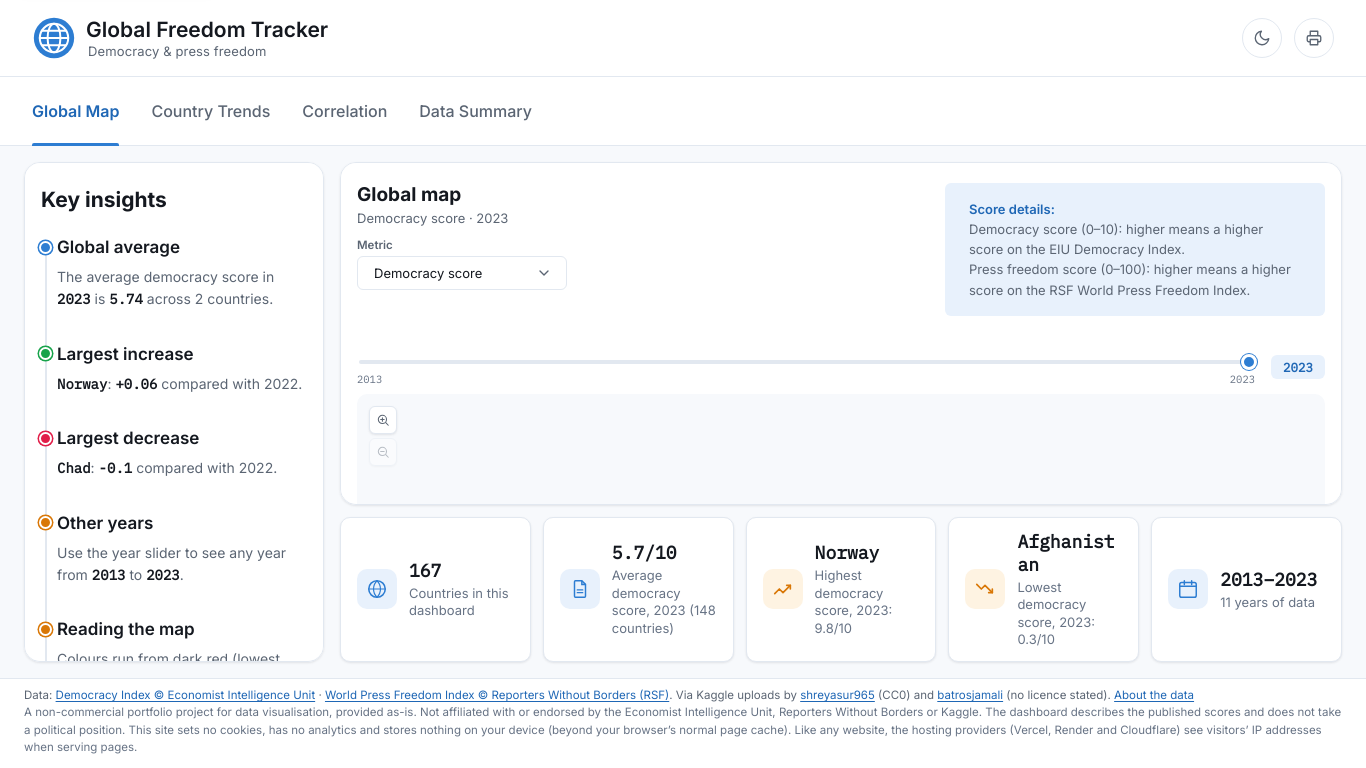
Test: App › switching tabs shows each page and links the tab to its panel
Expected: the heading "Global map" is shown, [357,183,461,206]
Click the tab "Country Trends" at [211, 111], box [151,77,270,145]
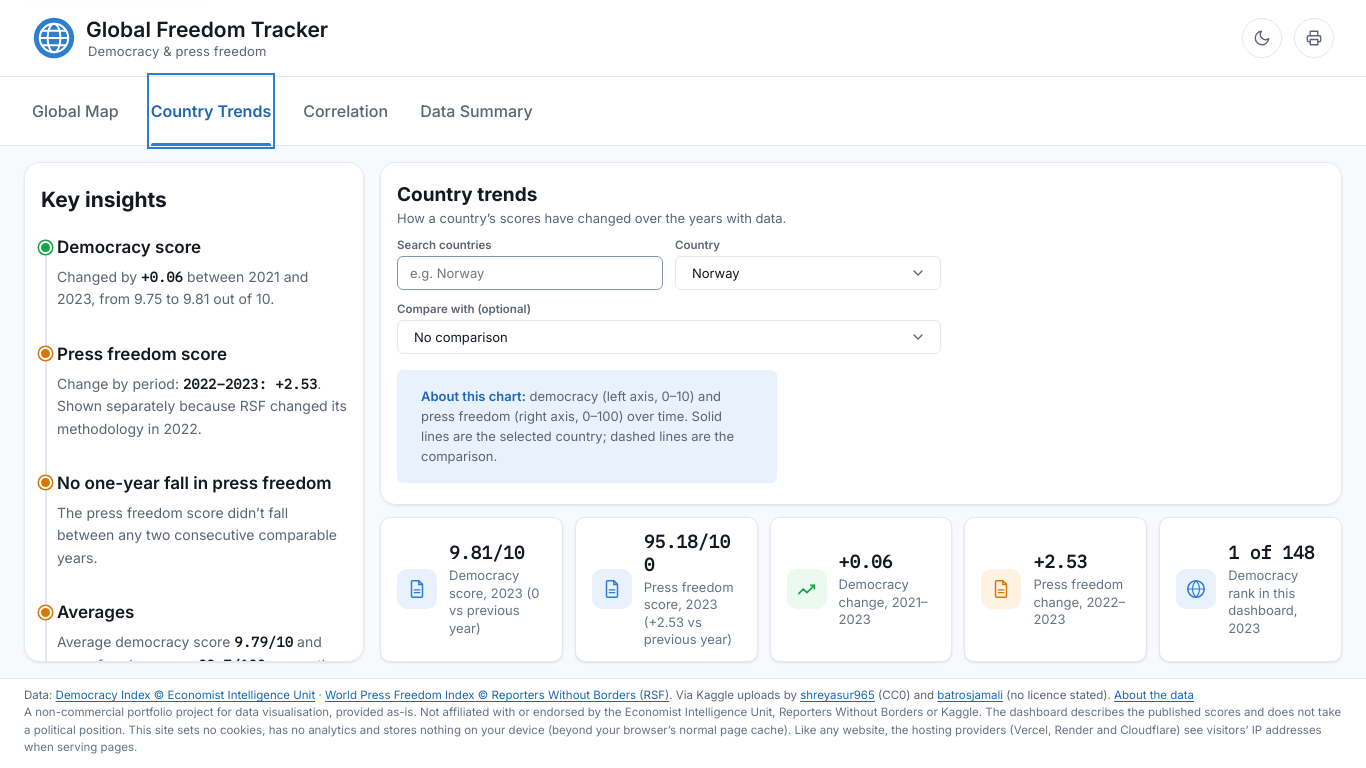
Expected: the heading "Country trends" is shown, [397,183,537,206]
Click the tab "Correlation" at [346, 111], box [303,77,388,145]
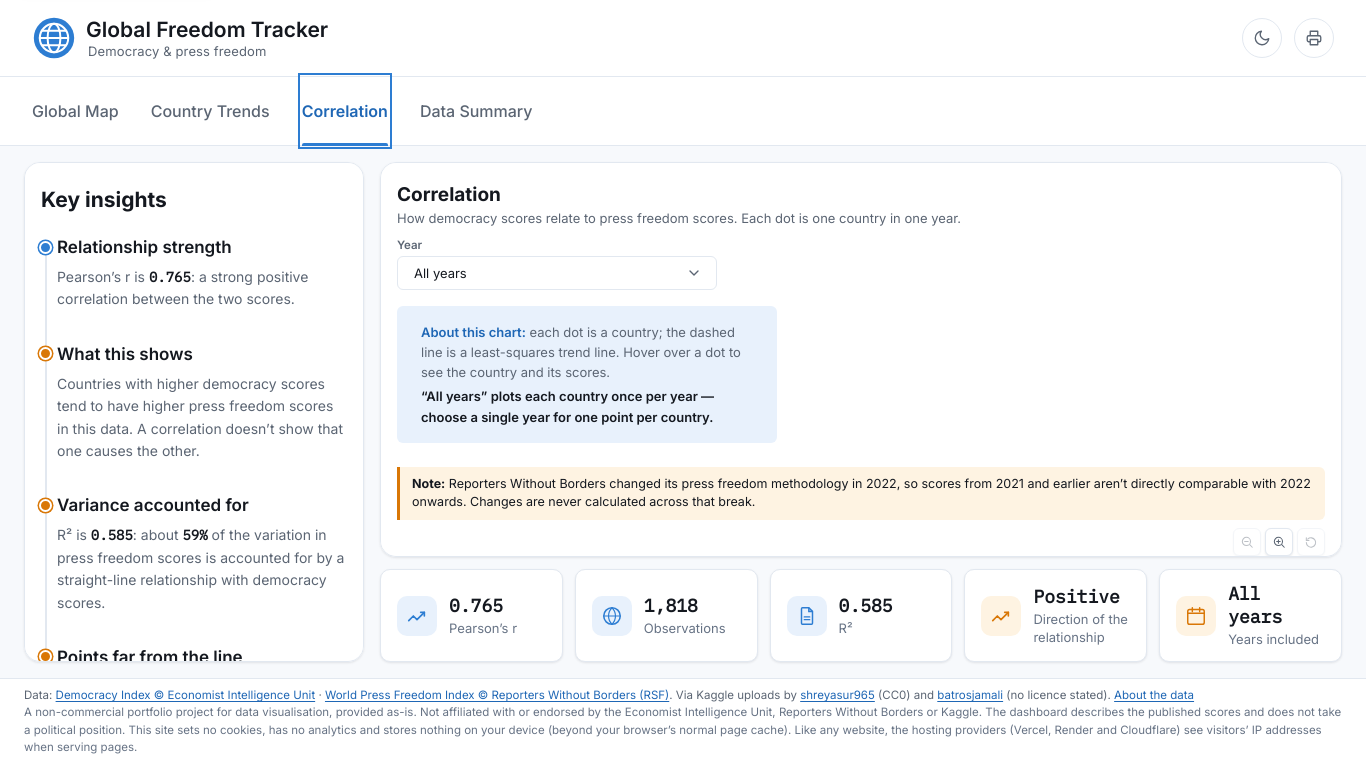
Expected: the heading "Correlation" is shown, [397,183,501,206]
Click the tab "Data Summary" at [476, 111], box [420,77,532,145]
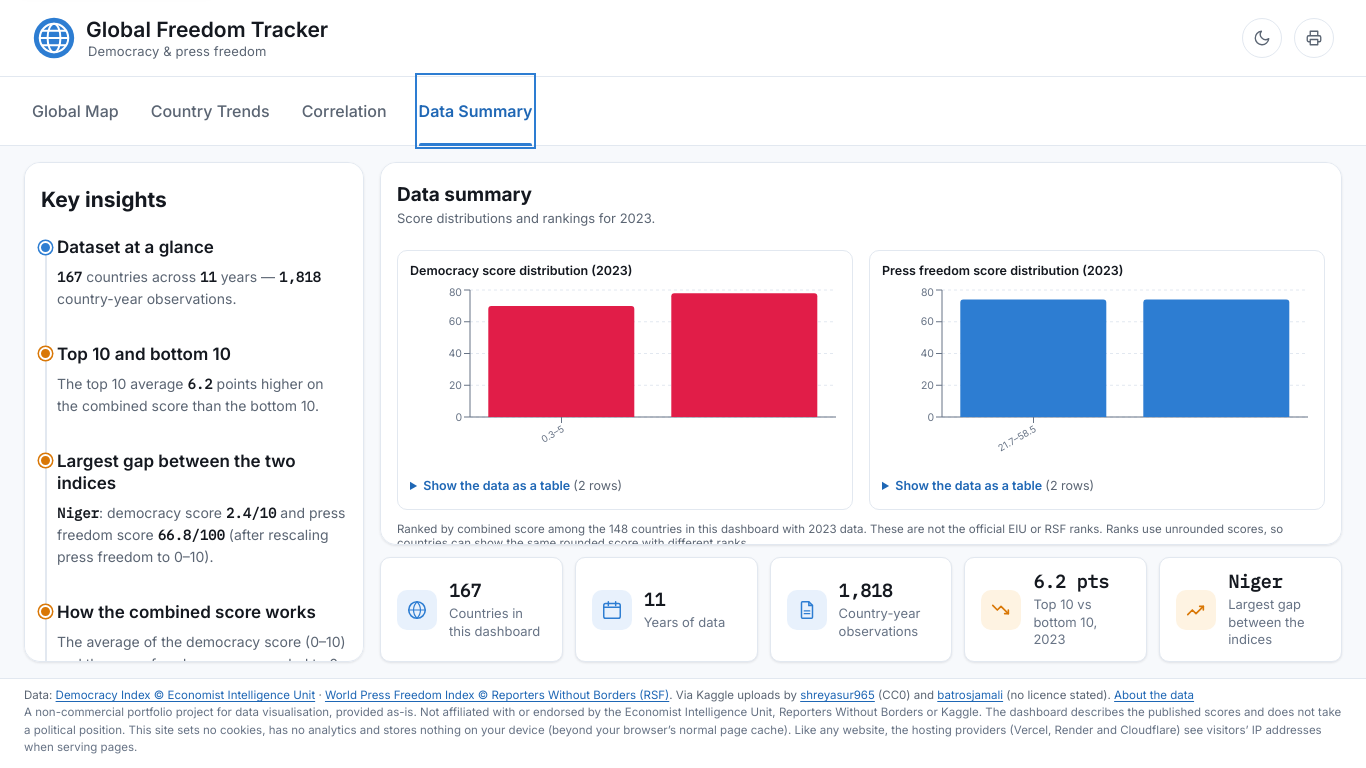
Expected: the heading "Data summary" is shown, [397,183,532,206]
